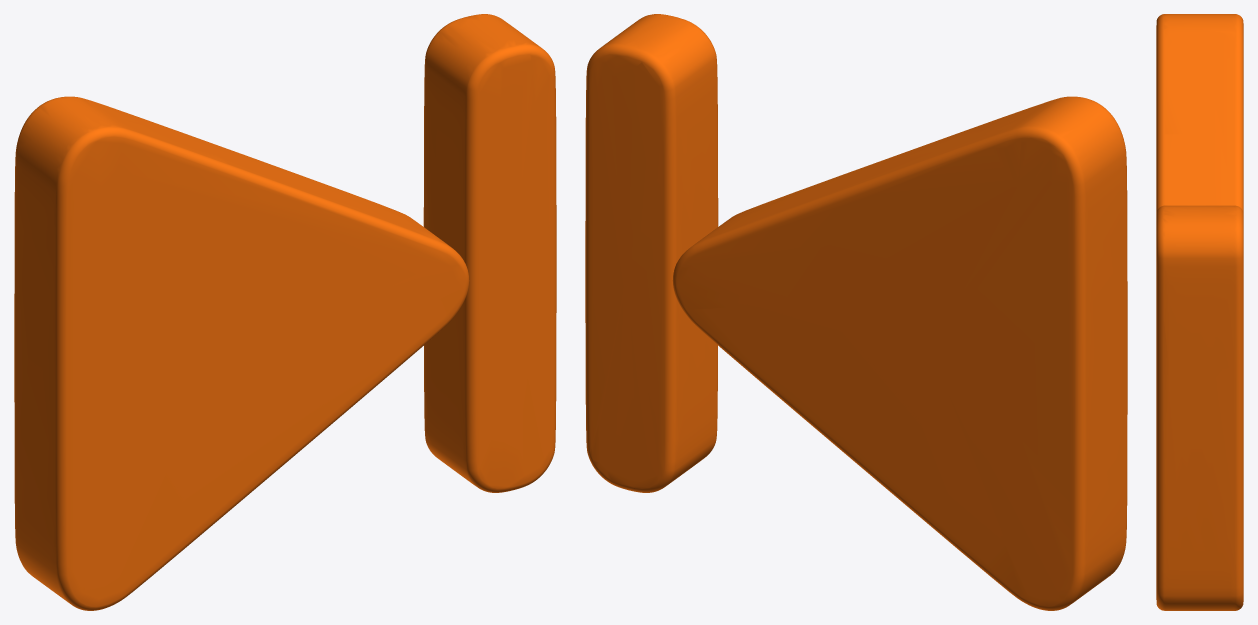
File: next.glb
The picture shows the model from 3 angles, left to right: view 1: azimuth 30°, elevation 25°; view 2: azimuth 150°, elevation 25°; view 3: azimuth 270°, elevation 25°; orthographic projection. The views are drawn at different scales.
Visible parts, largest first — view 1: Next; view 2: Next; view 3: Next.
Part boxes in pixels (x1,y1,x2,y2): Next: [14, 14, 556, 610]; Next: [585, 14, 1127, 610]; Next: [1156, 14, 1243, 610].
Bounding box in the file's own units: 1.75 × 1.61 × 0.3.
